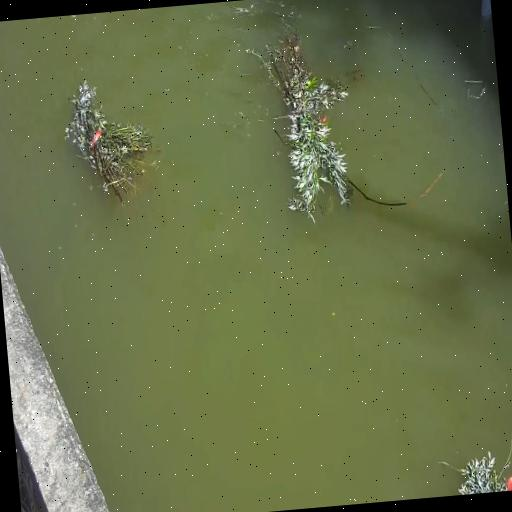twig: (249, 9, 426, 224), (62, 75, 160, 213), (437, 428, 512, 496)
